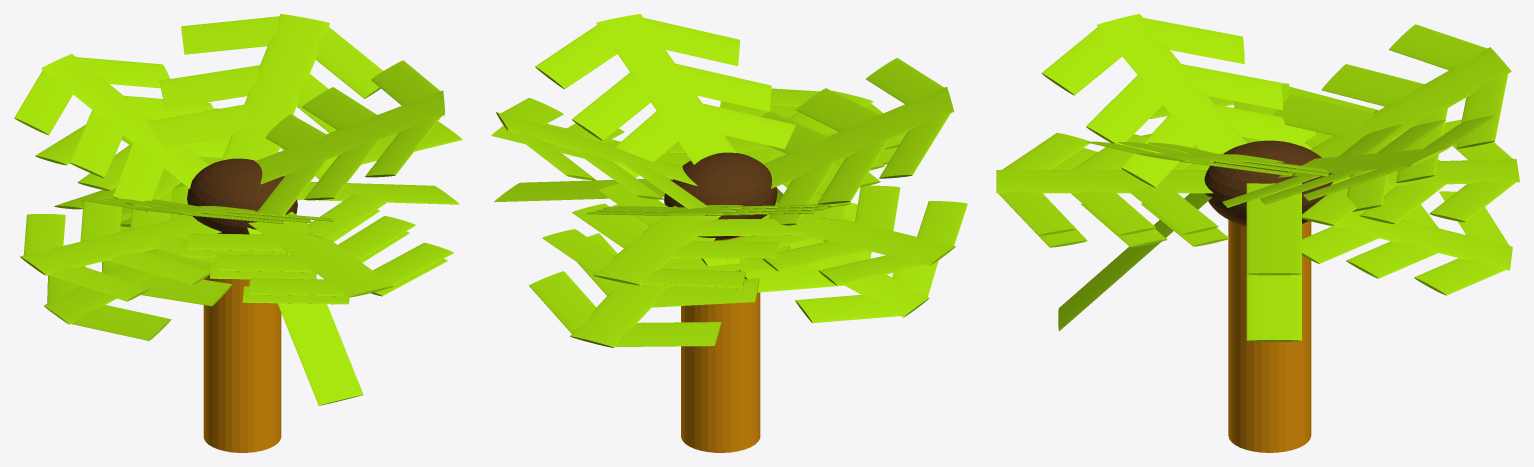
Rendered from PalmTree.fbx.
3 renders of one model, left to right at view 1: azimuth 30°, elevation 25°; view 2: azimuth 150°, elevation 25°; view 3: azimuth 270°, elevation 25°, orthographic. The views are drawn at different scales.
Parts seen in each view (by area): view 1: Sphere, Cylinder.002, Cylinder.003, Cylinder.004; view 2: Sphere, Cylinder.005; view 3: Sphere, Cylinder.007, Cylinder.006, Cylinder.005.
Boxes of the visible parts, box(x1,y1,x2,y2) form: Sphere: box(14, 14, 462, 452); Cylinder.002: box(242, 286, 349, 304); Cylinder.003: box(210, 262, 316, 279); Cylinder.004: box(181, 241, 287, 258); Sphere: box(491, 14, 967, 452); Cylinder.005: box(719, 102, 798, 117); Sphere: box(996, 14, 1519, 452); Cylinder.007: box(1141, 203, 1229, 246); Cylinder.006: box(1081, 203, 1167, 247); Cylinder.005: box(1009, 205, 1087, 247).
Size of the model in its own units: 377 by 286 by 379.
